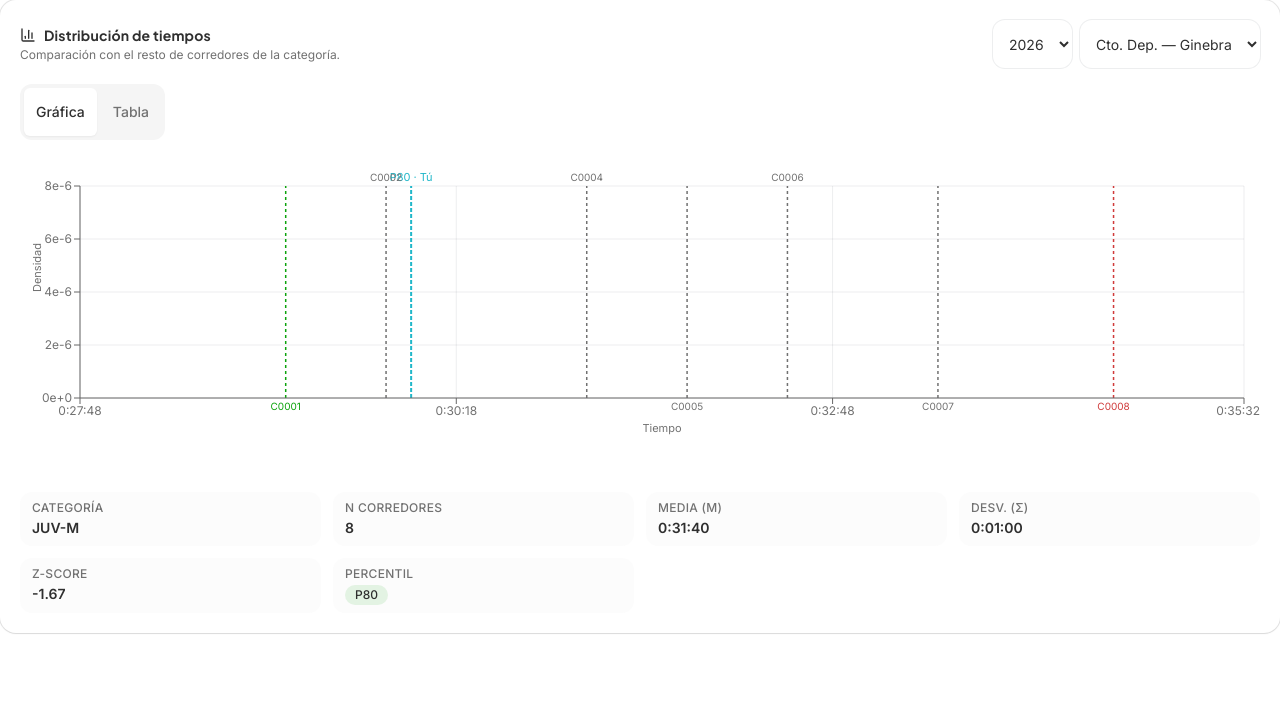
DistributionChart › T017 — race picker (US2) › seleccionar 'Temporada (todas)' muestra mensaje informativo y no dispara /distribution
The image size is (1280, 720).
# Seleccionar "Temporada (todas)" via fireEvent
Select "Temporada (todas)" in the dropdown with test id "distribution-valida-select": (1170, 44) [1080,20,1260,68]
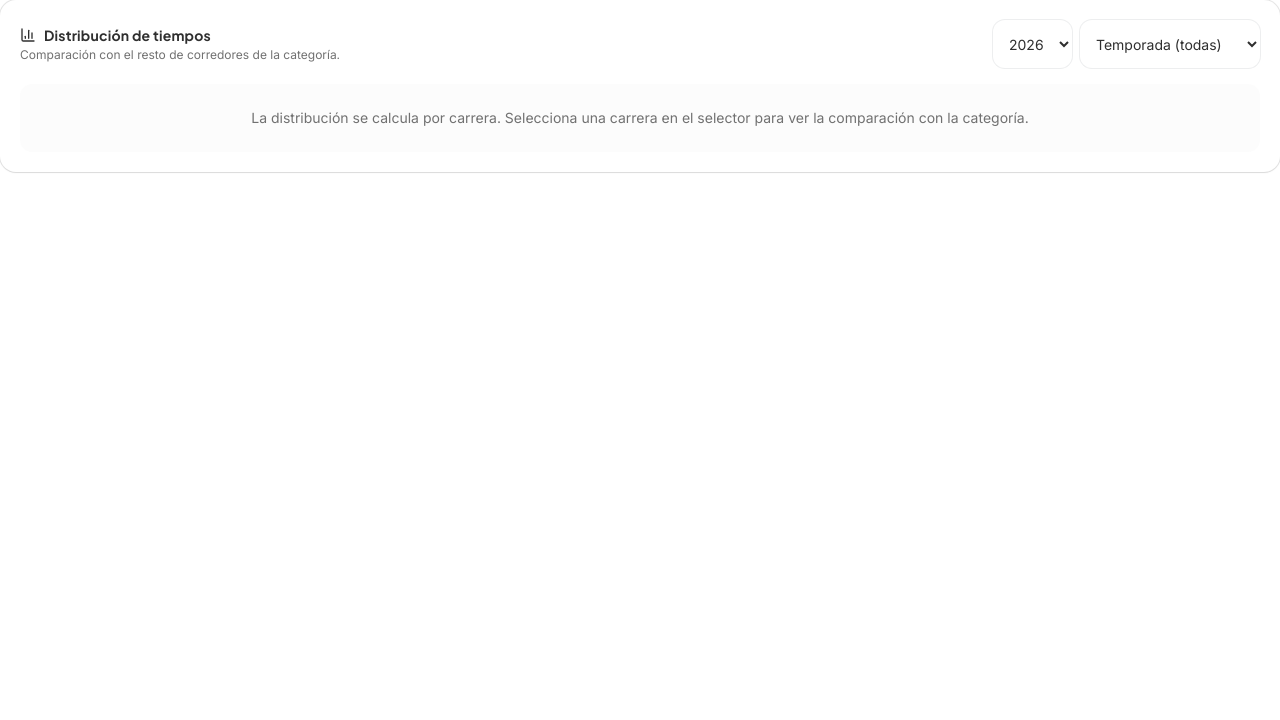
expect the text "La distribución se calcula por carrera" is shown: met, box [251,109,1029,126]
